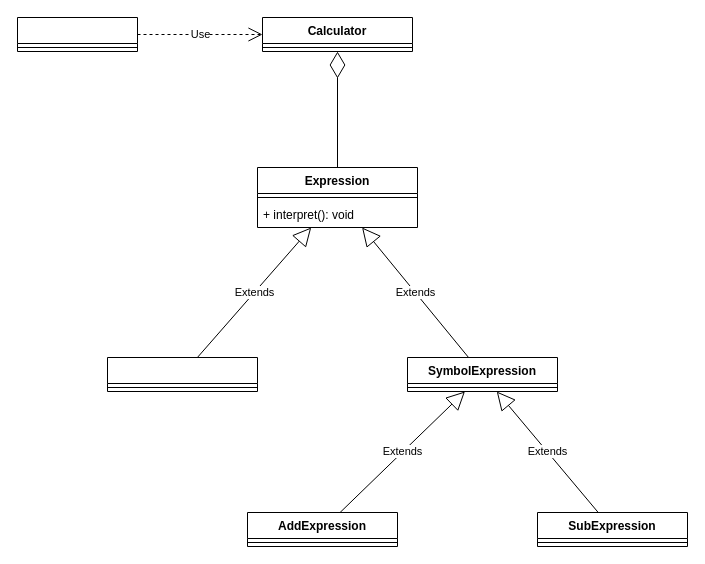
This 705x564 diagram has some shape labels left out. The shapes that lost their labels are listed below. From the top down, each one's centre as x and y in pixels, then its label:
(77,34): Cllient
(182,374): VarExpression
